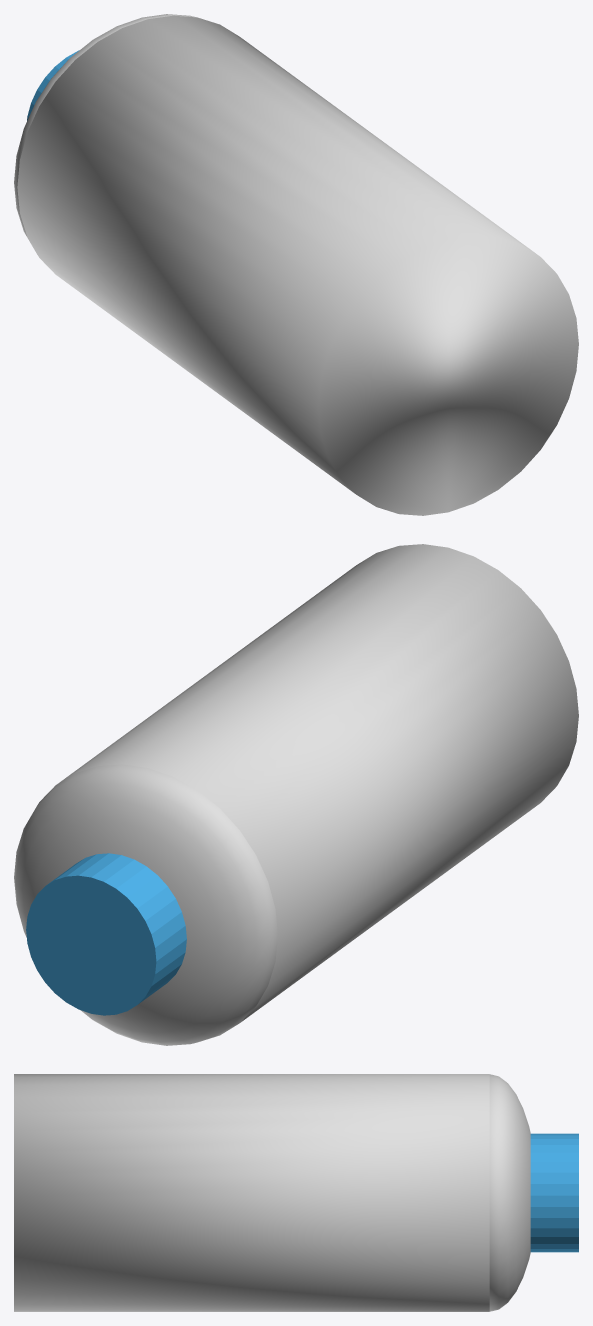
Rendered from bottle.fbx.
The picture shows the model from 3 angles, top to bottom: view 1: azimuth 30°, elevation 25°; view 2: azimuth 150°, elevation 25°; view 3: azimuth 270°, elevation 25°; orthographic projection. The views are drawn at different scales.
Visible parts, largest first — view 1: 球; view 2: 球; view 3: 球.
Part boxes in pixels (box(x1,y1,x2,y2)): 球: box(14, 14, 578, 515); 球: box(14, 544, 578, 1045); 球: box(14, 1074, 578, 1311).
Bounding box in the file's own units: 200 × 200 × 475.
